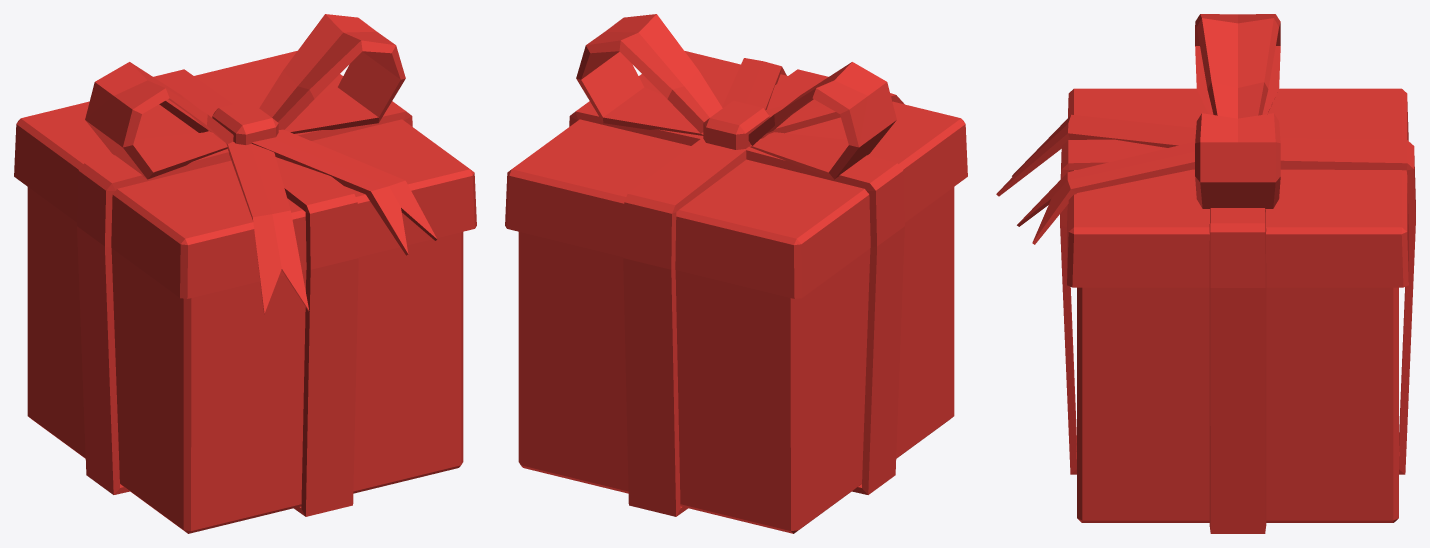
Rendered from SM_Gift_Christmas_Cube_A.fbx.
3 views of the same model, side by side, from view 1: azimuth 30°, elevation 25°; view 2: azimuth 150°, elevation 25°; view 3: azimuth 270°, elevation 25° (orthographic).
Visible parts, largest first — view 1: gift-christmas-cube-a; view 2: gift-christmas-cube-a; view 3: gift-christmas-cube-a.
Part boxes in pixels (x1,y1,x2,y2): gift-christmas-cube-a: (14,14,476,533); gift-christmas-cube-a: (505,14,967,533); gift-christmas-cube-a: (996,14,1415,533).
Bounding box in the file's own units: 0.3317 × 0.4116 × 0.3912.
